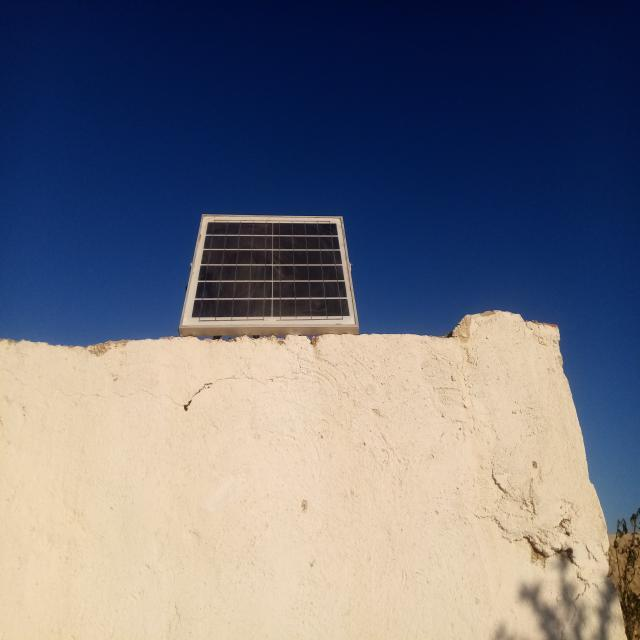faulty: (181, 214, 358, 325)
